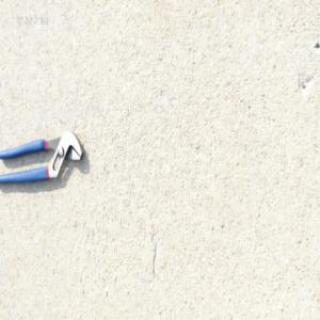Pliertrack_idkeyframe: (0, 128, 82, 186)
